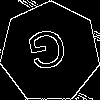G: (25, 27, 72, 81)
